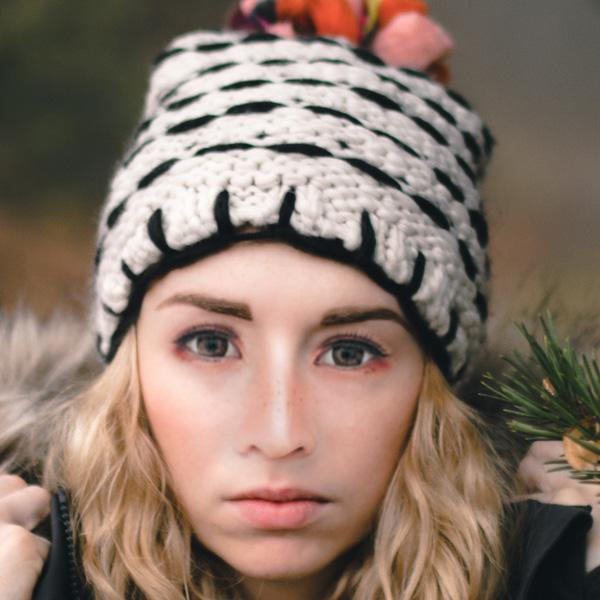Eyes: (165, 310, 250, 372), (303, 324, 390, 381)
